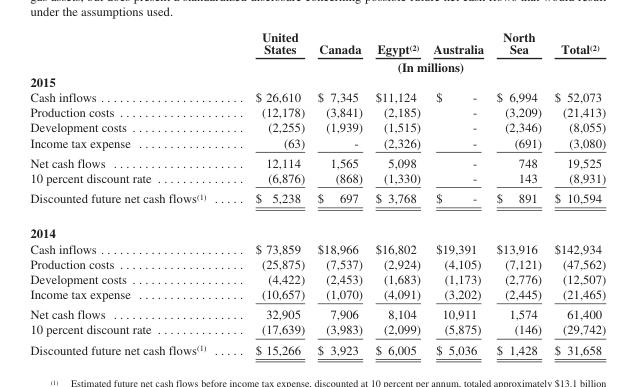table: (29, 28, 605, 356)
table column: (29, 28, 230, 356), (230, 28, 310, 356), (426, 28, 489, 356), (310, 28, 368, 356), (368, 28, 426, 356), (489, 28, 547, 356), (547, 28, 605, 356)
table column header: (29, 28, 605, 73)
table projected row header: (29, 215, 605, 240), (29, 73, 605, 89)
table row: (29, 28, 605, 57), (29, 187, 605, 215), (29, 215, 605, 240), (29, 134, 605, 152), (29, 152, 605, 170), (29, 303, 605, 321), (29, 321, 605, 339), (29, 170, 605, 187), (29, 286, 605, 303), (29, 339, 605, 356), (29, 57, 605, 73), (29, 73, 605, 89), (29, 255, 605, 271), (29, 89, 605, 104), (29, 104, 605, 119), (29, 119, 605, 134), (29, 240, 605, 255), (29, 271, 605, 286)
table spanning cell: (230, 57, 605, 73)
